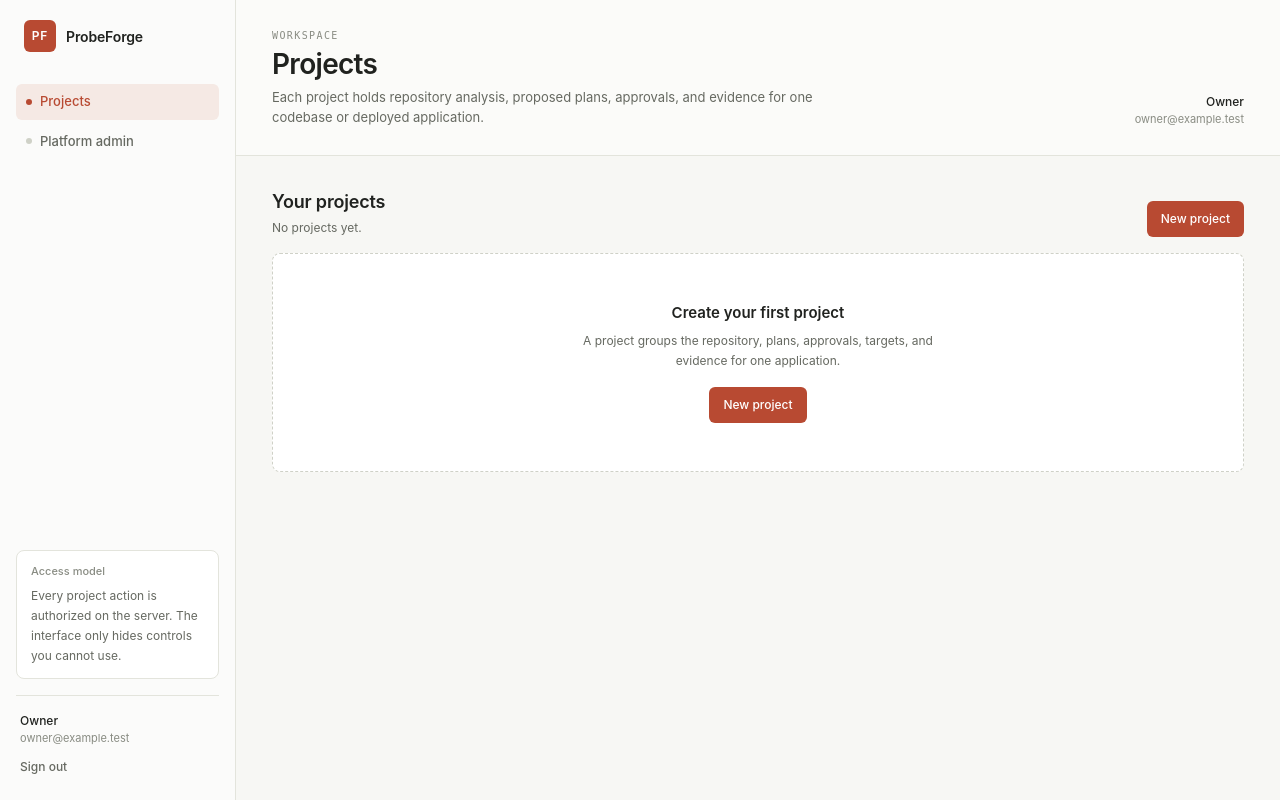
Test: App › shows the platform admin dashboard for an administrator
Expected: the heading "Projects" is shown, left=272, top=47, right=377, bottom=81
Click the button "Platform admin" at (118, 141), box left=16, top=124, right=219, bottom=159
(page scrolled)
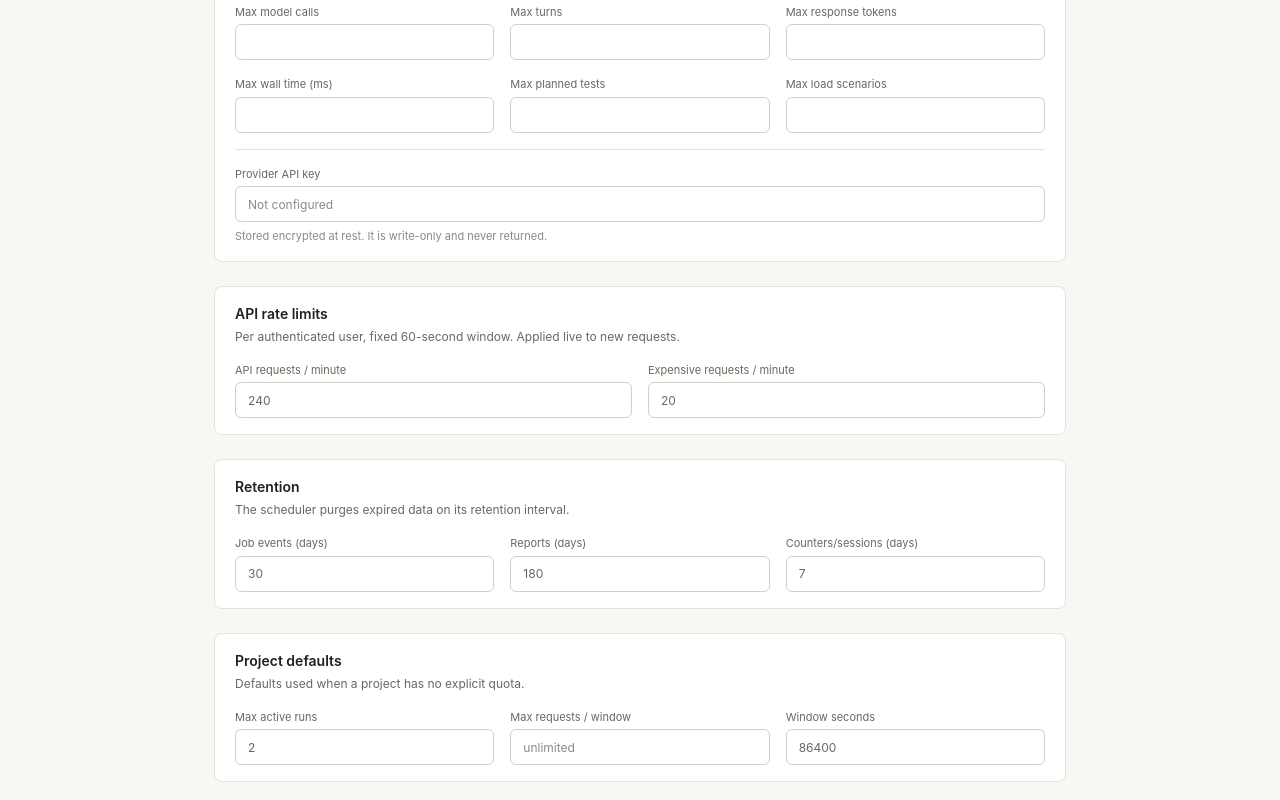
Expected: the number field labelled "API requests / minute" is shown, left=235, top=382, right=632, bottom=418
